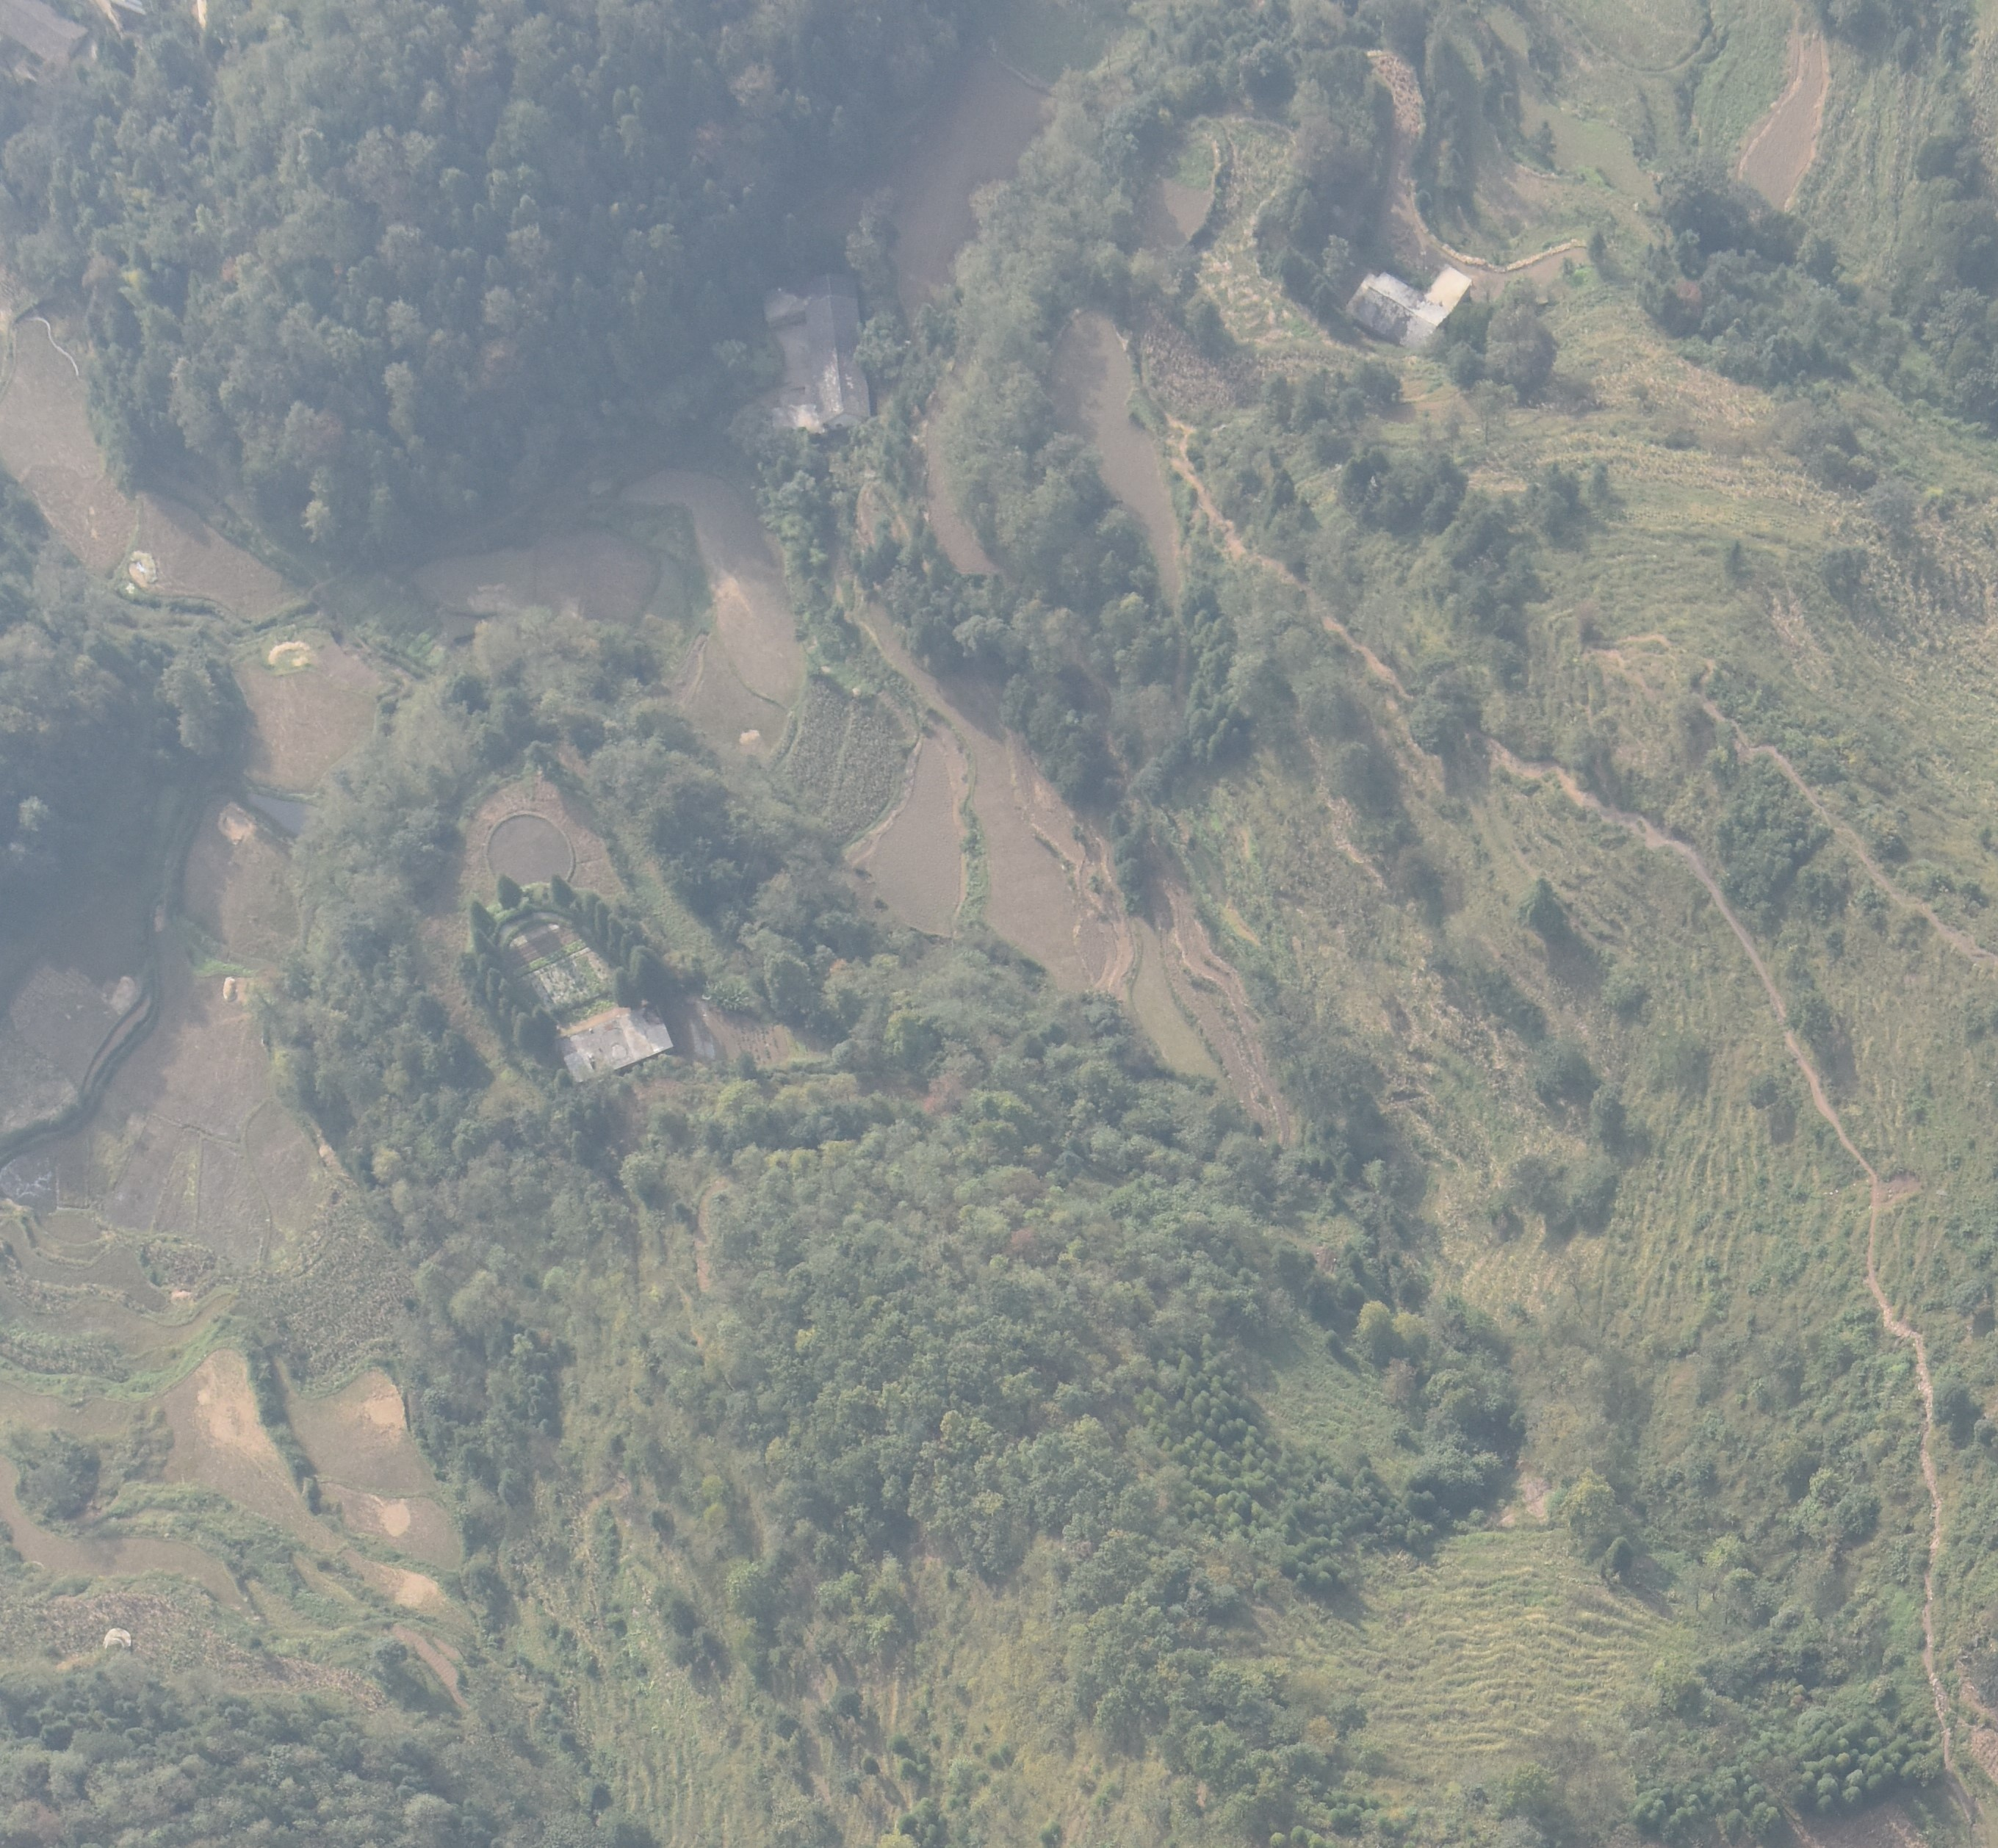building: (761, 268, 872, 437), (1347, 263, 1474, 353), (553, 1002, 672, 1082)
